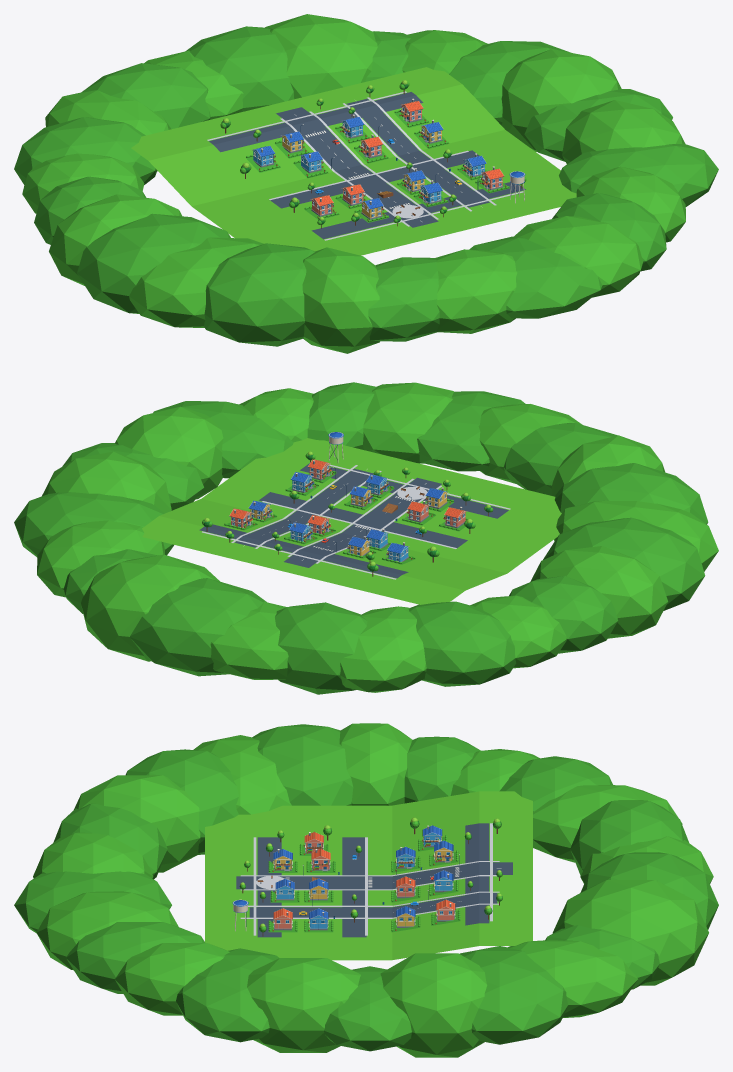
File: town.glb
3 views of the same model, one above another, from view 1: azimuth 30°, elevation 25°; view 2: azimuth 150°, elevation 25°; view 3: azimuth 270°, elevation 25° (orthographic). The views are drawn at different scales.
Visible parts, largest first — view 1: Town_grass_dark, Town_leaf_light, Town_grass, Town_asphalt, Town_walk; view 2: Town_grass_dark, Town_leaf_light, Town_grass, Town_asphalt, Town_walk; view 3: Town_leaf_light, Town_grass_dark, Town_grass, Town_asphalt, Town_walk.
Part boxes in pixels (<box>): Town_grass_dark: <box>14,26,718,346</box>; Town_leaf_light: <box>22,14,685,353</box>; Town_grass: <box>131,67,576,255</box>; Town_asphalt: <box>209,92,525,239</box>; Town_walk: <box>207,91,523,240</box>; Town_grass_dark: <box>14,382,708,694</box>; Town_leaf_light: <box>37,382,718,692</box>; Town_grass: <box>142,438,561,604</box>; Town_asphalt: <box>199,463,508,578</box>; Town_walk: <box>202,464,510,579</box>; Town_leaf_light: <box>33,723,713,1057</box>; Town_grass_dark: <box>14,724,718,1051</box>; Town_grass: <box>205,791,532,960</box>; Town_asphalt: <box>236,823,512,937</box>; Town_walk: <box>240,823,499,935</box>.
Size of the model in its own units: 317 by 46.12 by 316.
